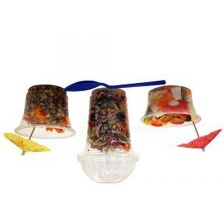glass: (71, 81, 141, 188), (10, 80, 77, 141), (136, 83, 204, 133)
